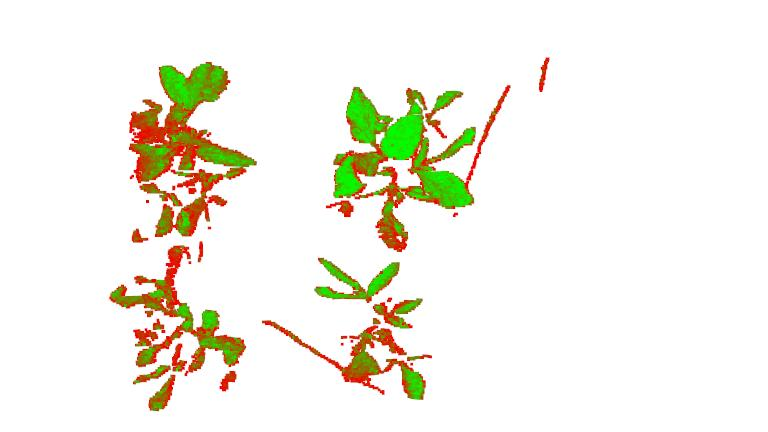mungbean: (121, 62, 260, 240), (326, 87, 474, 252), (104, 242, 246, 410), (313, 257, 432, 399)
